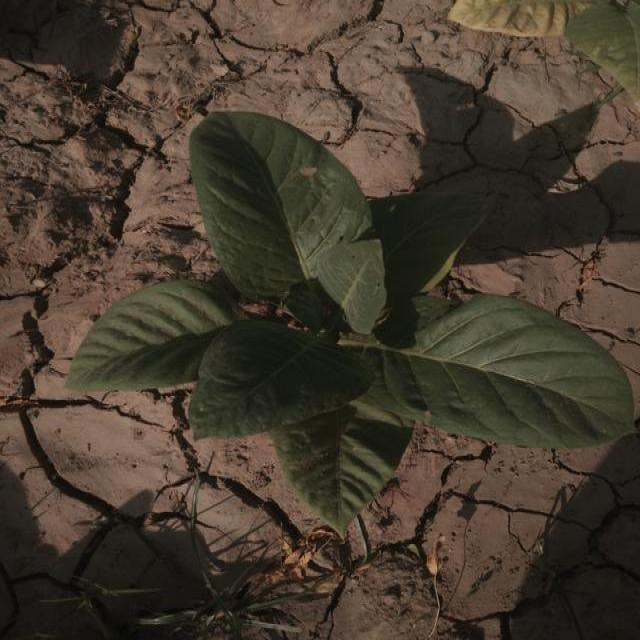crop: (66, 95, 636, 529)
